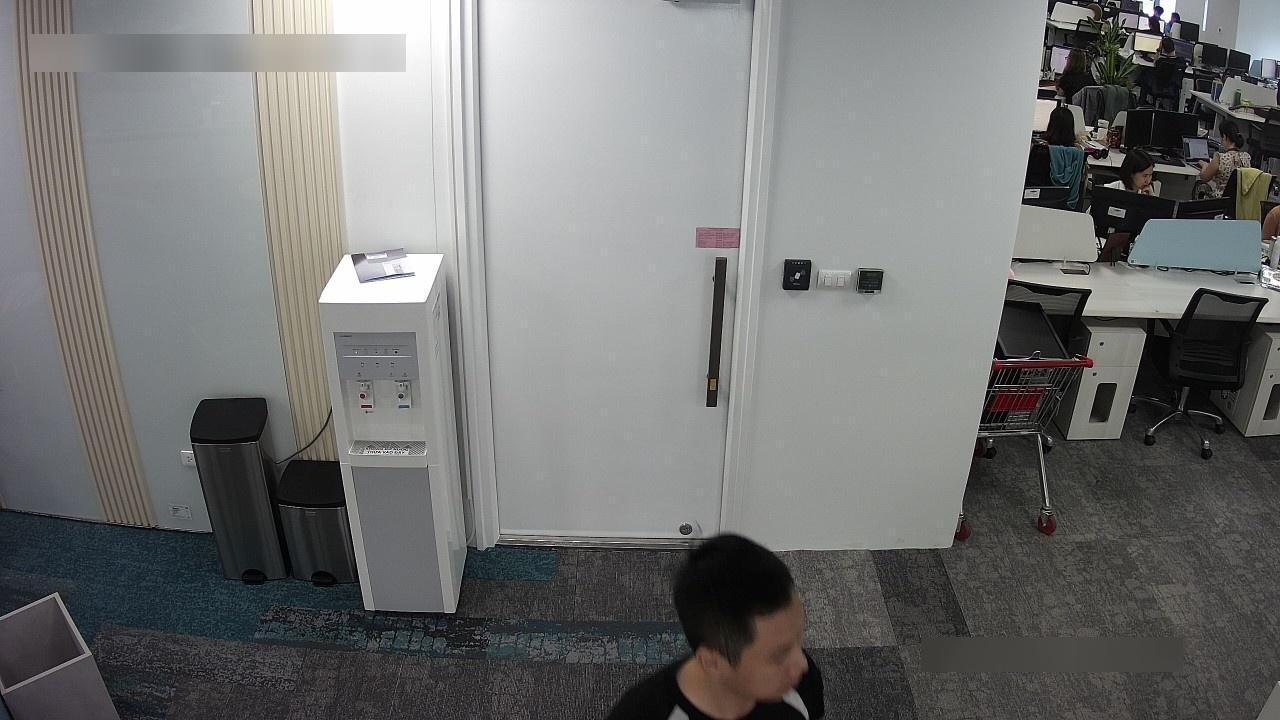no_apron: (1138, 180, 1163, 204), (1194, 147, 1214, 175)
no_gloves: (664, 522, 802, 692), (1113, 135, 1160, 203), (1049, 90, 1088, 154), (1213, 109, 1256, 163), (1161, 38, 1188, 63)
no_hairnet: (729, 578, 819, 702)
